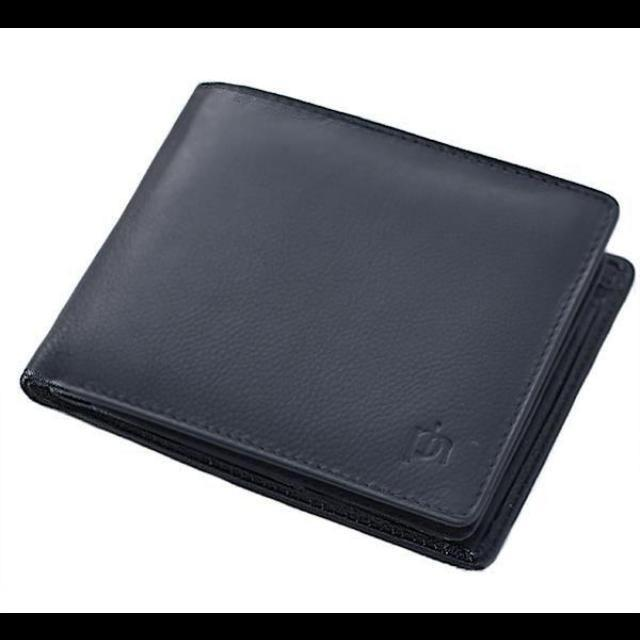Wallet: (16, 77, 636, 576)
